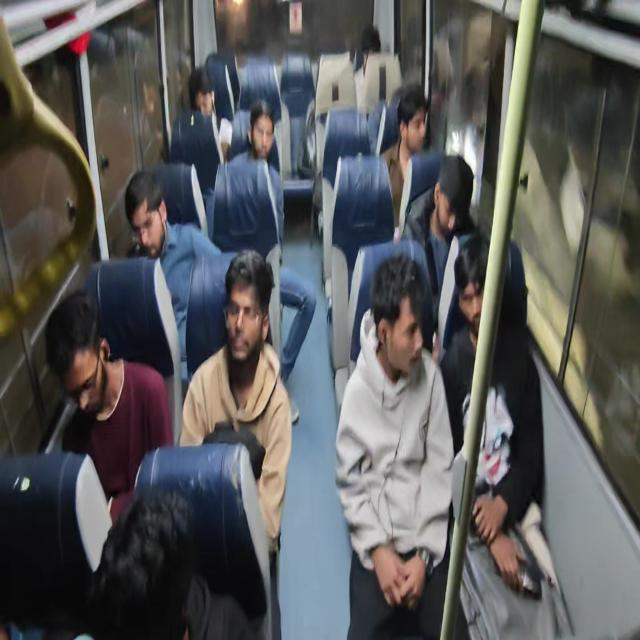person: (439, 230, 571, 638), (334, 252, 462, 638), (178, 247, 292, 637), (216, 99, 316, 422), (44, 288, 174, 526), (86, 483, 257, 639), (124, 169, 227, 359), (402, 153, 474, 318), (227, 99, 285, 253), (380, 82, 430, 243), (170, 65, 226, 194), (187, 66, 232, 162), (230, 99, 281, 175)
